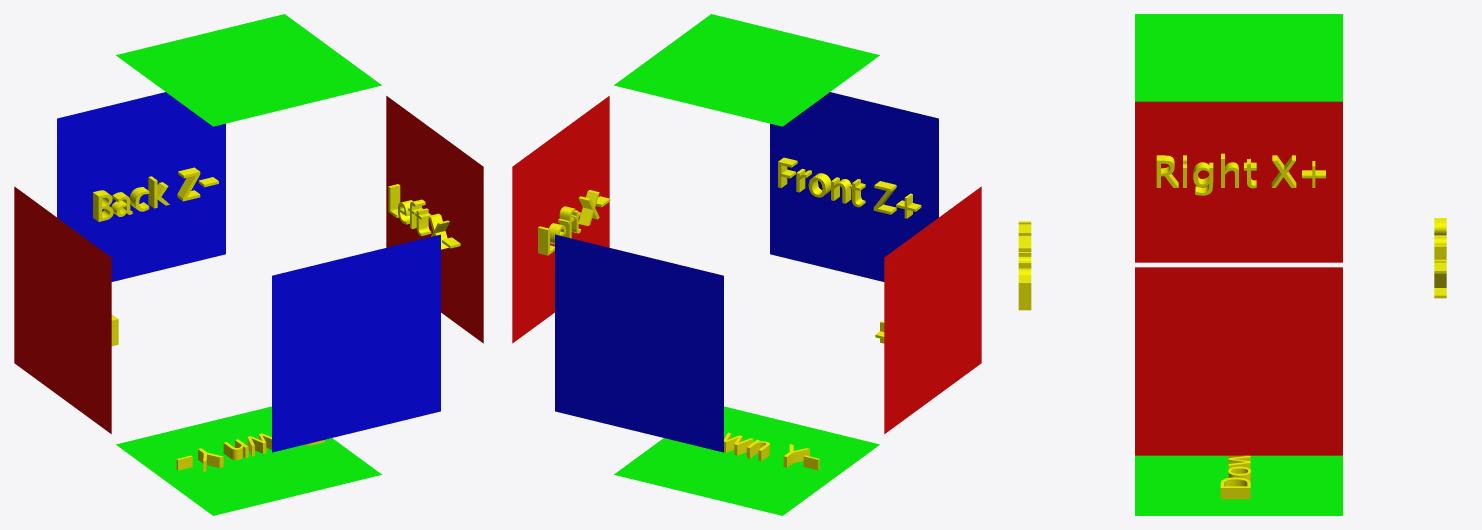
File: xyzPanels.fbx
3 renders of one model, left to right at view 1: azimuth 30°, elevation 25°; view 2: azimuth 150°, elevation 25°; view 3: azimuth 270°, elevation 25°, orthographic. The views are drawn at different scales.
Parts seen in each view (by area): view 1: frontPlane, backPlane, rightPlane, upPlane, downPlane, leftPlane, Back, Left, Down; view 2: backPlane, frontPlane, rightPlane, upPlane, downPlane, leftPlane, Front, Left, Down; view 3: leftPlane, rightPlane, upPlane, downPlane, Right, Front, Down, Back.
Part boxes in pixels (box(x1,y1,x2,y2)): frontPlane: box(272, 234, 440, 452); backPlane: box(57, 92, 225, 281); rightPlane: box(14, 186, 111, 433); upPlane: box(116, 14, 381, 126); downPlane: box(116, 406, 381, 515); leftPlane: box(386, 96, 483, 343); Back: box(93, 167, 218, 221); Left: box(388, 184, 460, 249); Down: box(176, 433, 324, 471); backPlane: box(555, 234, 723, 452); frontPlane: box(770, 92, 938, 281); rightPlane: box(884, 186, 981, 433); upPlane: box(614, 14, 879, 126); downPlane: box(614, 406, 879, 515); leftPlane: box(512, 96, 609, 343); Front: box(778, 157, 921, 218); Left: box(538, 190, 610, 255); Down: box(724, 432, 819, 470); leftPlane: box(1135, 267, 1342, 455); rightPlane: box(1135, 101, 1342, 262); upPlane: box(1135, 14, 1342, 101); downPlane: box(1135, 455, 1342, 515); Right: box(1156, 153, 1325, 195); Front: box(1018, 221, 1031, 310); Down: box(1220, 455, 1251, 499); Back: box(1434, 218, 1446, 298).
Bounding box in the file's own units: 1100 × 1100 × 1100.
